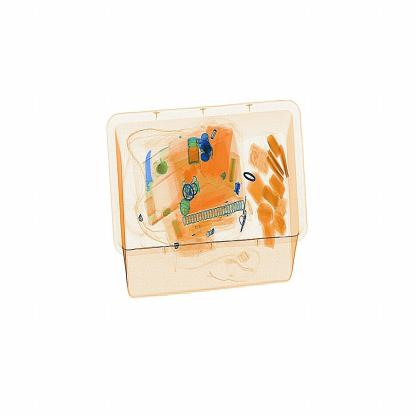wrench: (138, 147, 162, 221)
